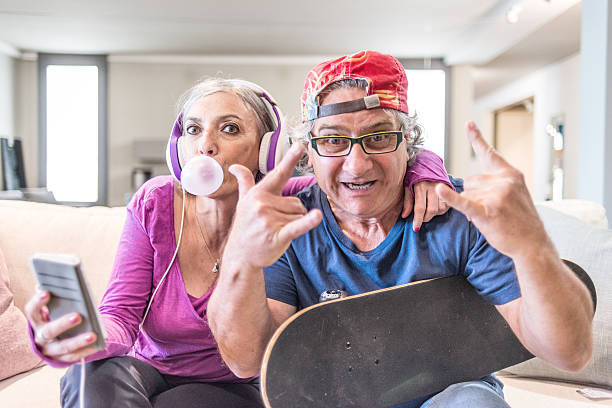Rock On: (433, 116, 560, 254)
